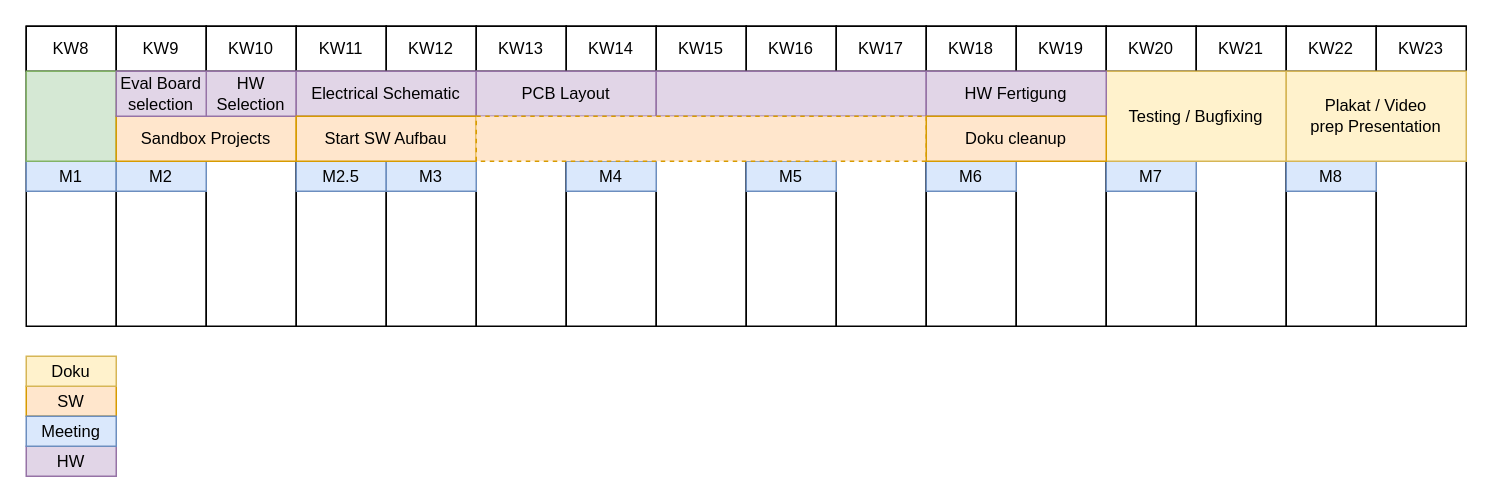
Some shapes in this 1493 by 503 pixel diagram are drawn without their labels. The shapes that lost their labels are listed below. From the top down, each one's box as (x1, y1, x2, y2) in pixels, then its label:
(655, 70, 926, 116): HW Order Delay
(25, 70, 116, 161): Start
(475, 115, 926, 161): tbd. -> SW-Progress
